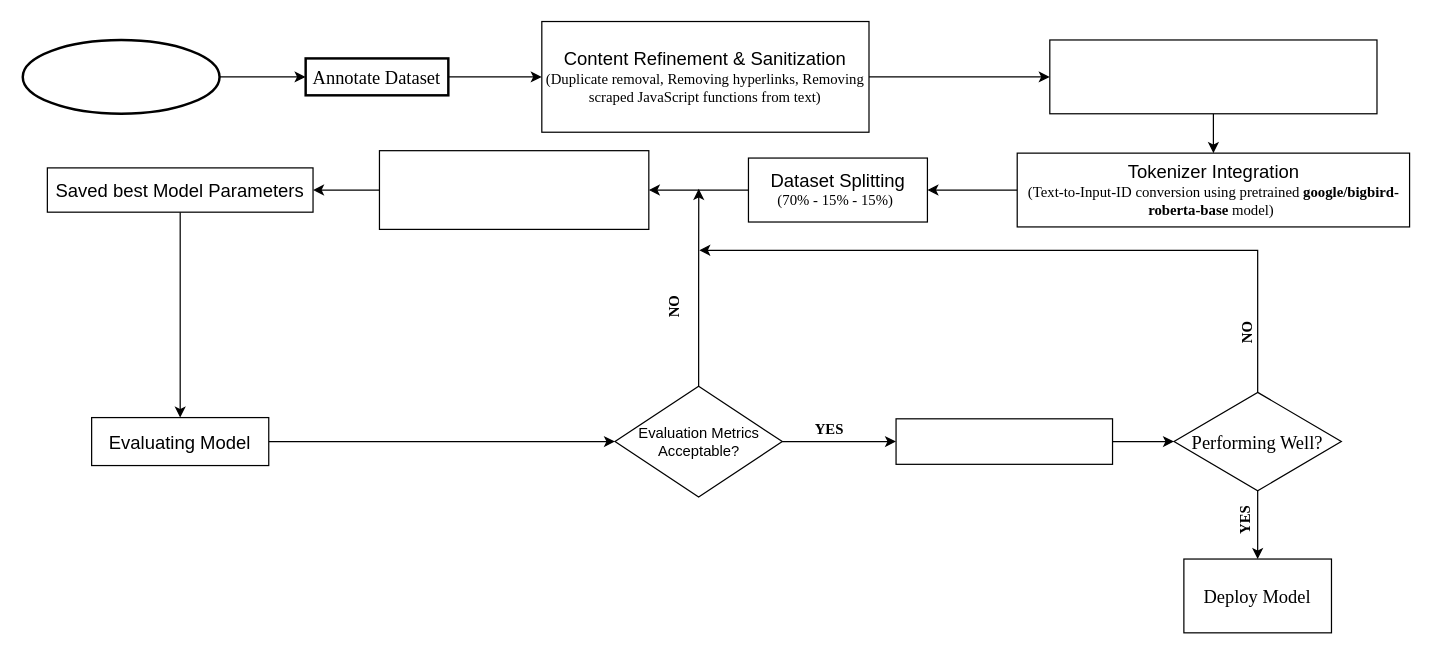
Image size: 1430x654. Some labels were removed from this diagram. Here are the shapes that lost their labels. From the top down, the box of each, then its label:
(21, 38, 220, 114): Scrapped Dataset Collection / Extraction
(1049, 39, 1377, 114): Data Preprocessing (word tokenization, stopword removal, lemmatization )
(378, 149, 649, 229): Fine-Tuning for Bias Detection (over validation loss & F1.8 score ) )
(895, 418, 1113, 464): Testing over Manual Input
